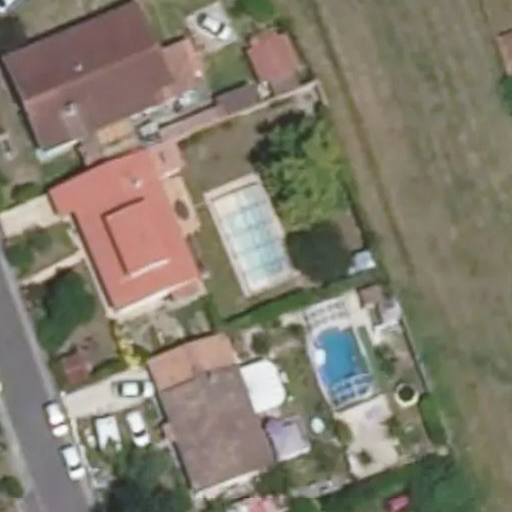pool: (205, 178, 298, 292), (303, 300, 381, 407)
